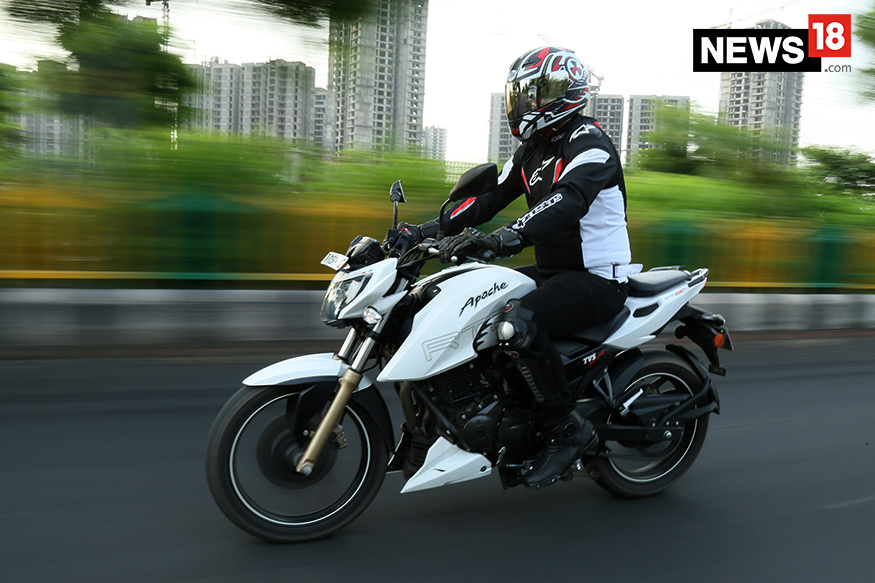helmet: (501, 51, 593, 141)
